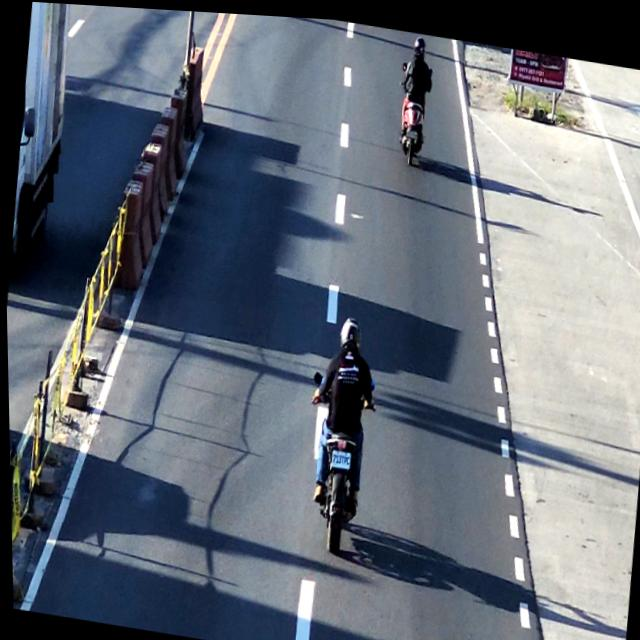License-Plate: (325, 444, 352, 468)
Motorcycle: (302, 309, 378, 555), (390, 25, 438, 161)
